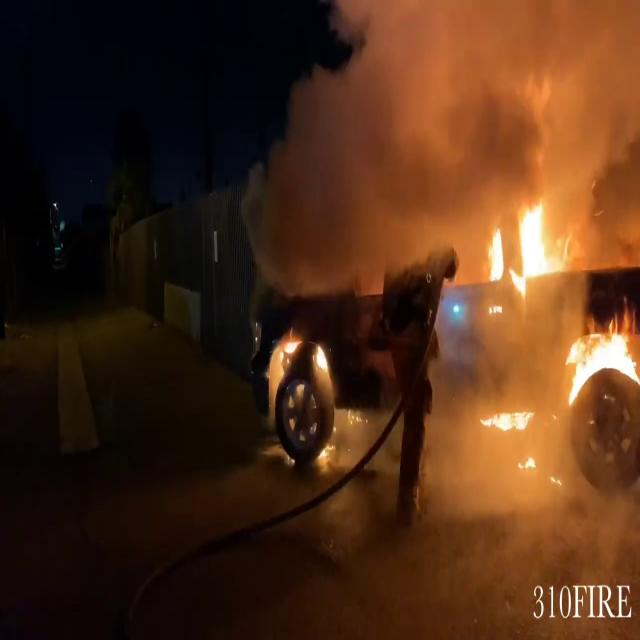Fire: (482, 196, 562, 297), (556, 309, 640, 405)
Smoke: (249, 0, 640, 266)
